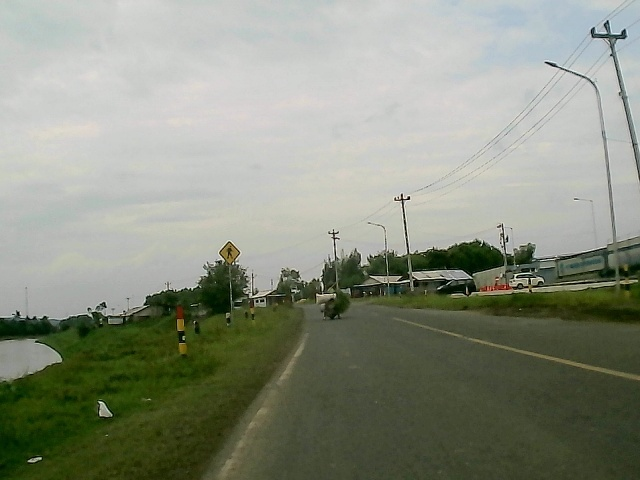Peringatan orang menyeberang: (215, 240, 242, 266)
